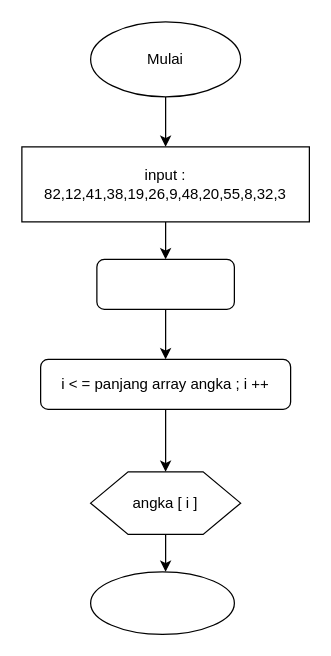
This 331x656 diagram has some shape labels left out. The shapes that lost their labels are listed below. From the top down, each one's centre as x and y in pixels, then its label:
At (x=165, y=283): "For i = 0".
At (x=161, y=602): "Selesai".
